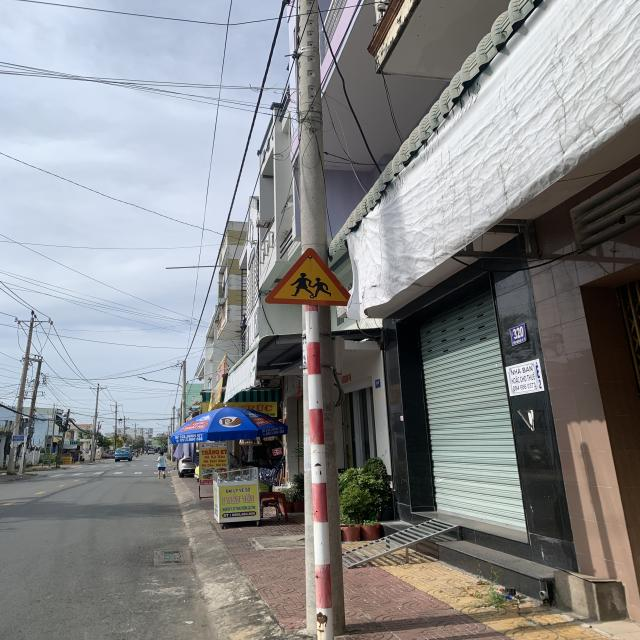Vong_Xuyen: (264, 247, 352, 307)
